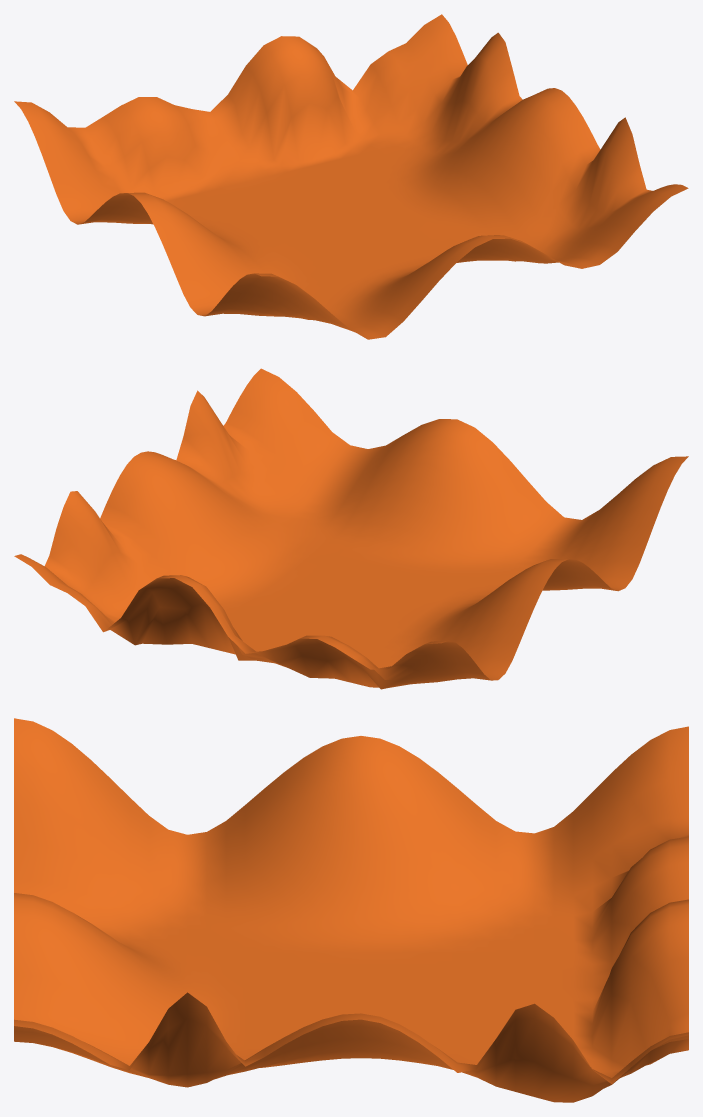
Rendered from mountain.fbx.
The picture shows the model from 3 angles, top to bottom: view 1: azimuth 30°, elevation 25°; view 2: azimuth 150°, elevation 25°; view 3: azimuth 270°, elevation 25°; orthographic projection. The views are drawn at different scales.
Parts seen in each view (by area): view 1: Plane.001; view 2: Plane.001; view 3: Plane.001.
Boxes of the visible parts, x1=… form: Plane.001: x1=14, y1=14, x2=688, y2=339; Plane.001: x1=14, y1=368, x2=688, y2=689; Plane.001: x1=14, y1=718, x2=688, y2=1102.
Bounding box in the file's own units: 23667 × 5824 × 23667.
